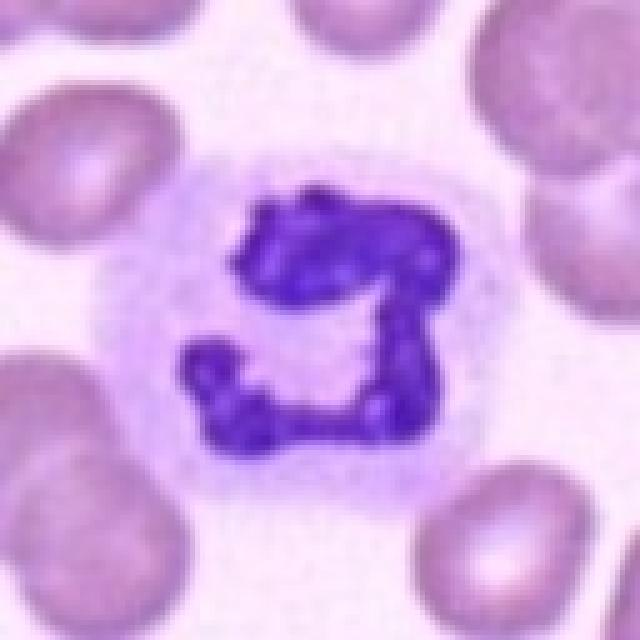neutro: (134, 134, 559, 552)
